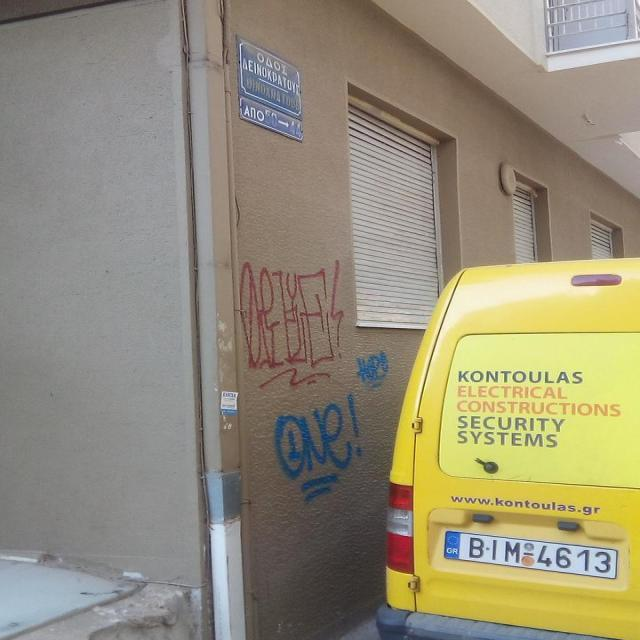nonspitting: (240, 258, 345, 388), (274, 395, 363, 503), (356, 352, 390, 388)
